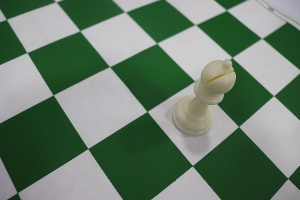white_bishop: (164, 25, 239, 151)
